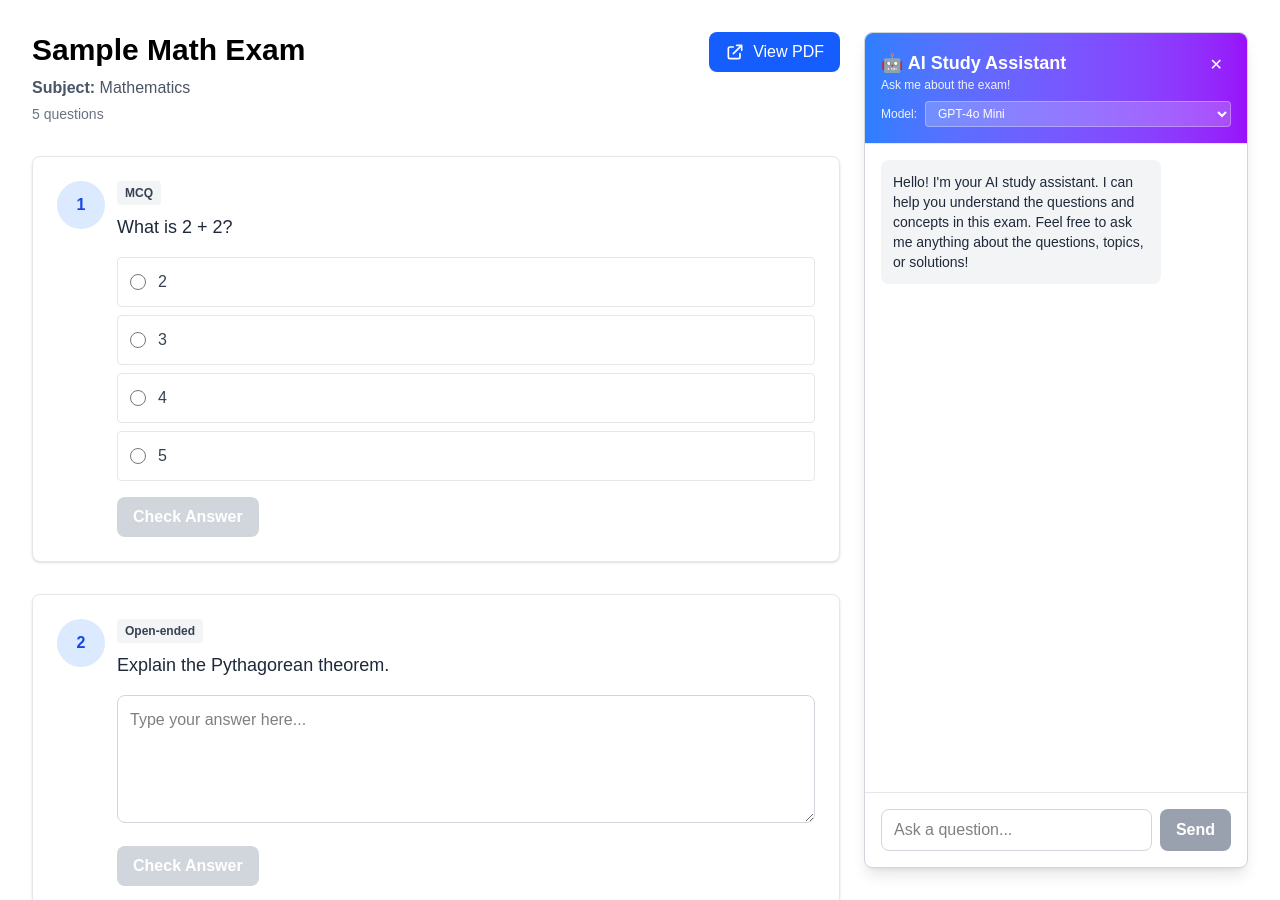
Test: ExamViewer › should display correct answer for open-ended questions
The image size is (1280, 900).
Expected: the text "Explain the Pythagorean theorem." is shown, [117, 655, 389, 675]
# Type an answer
Type "My answer about triangles" into the text box with test id "answer-input-2".
click(466, 759); type("My answer about triangles")  # box [117, 695, 815, 823]
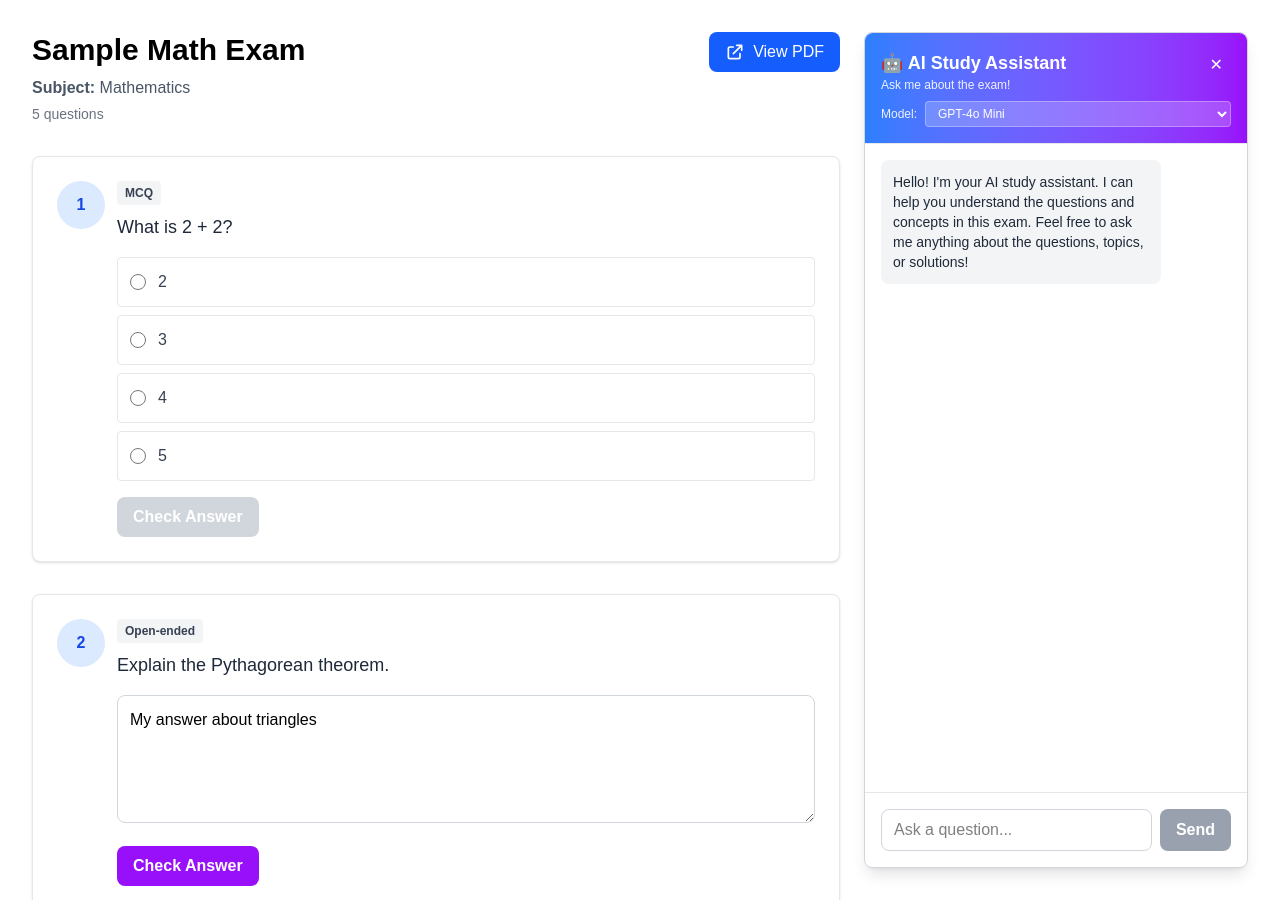
# Click Check Answer
Click the button with test id "check-answer-2".
click(188, 866)  # box [117, 846, 259, 886]
(page scrolled)
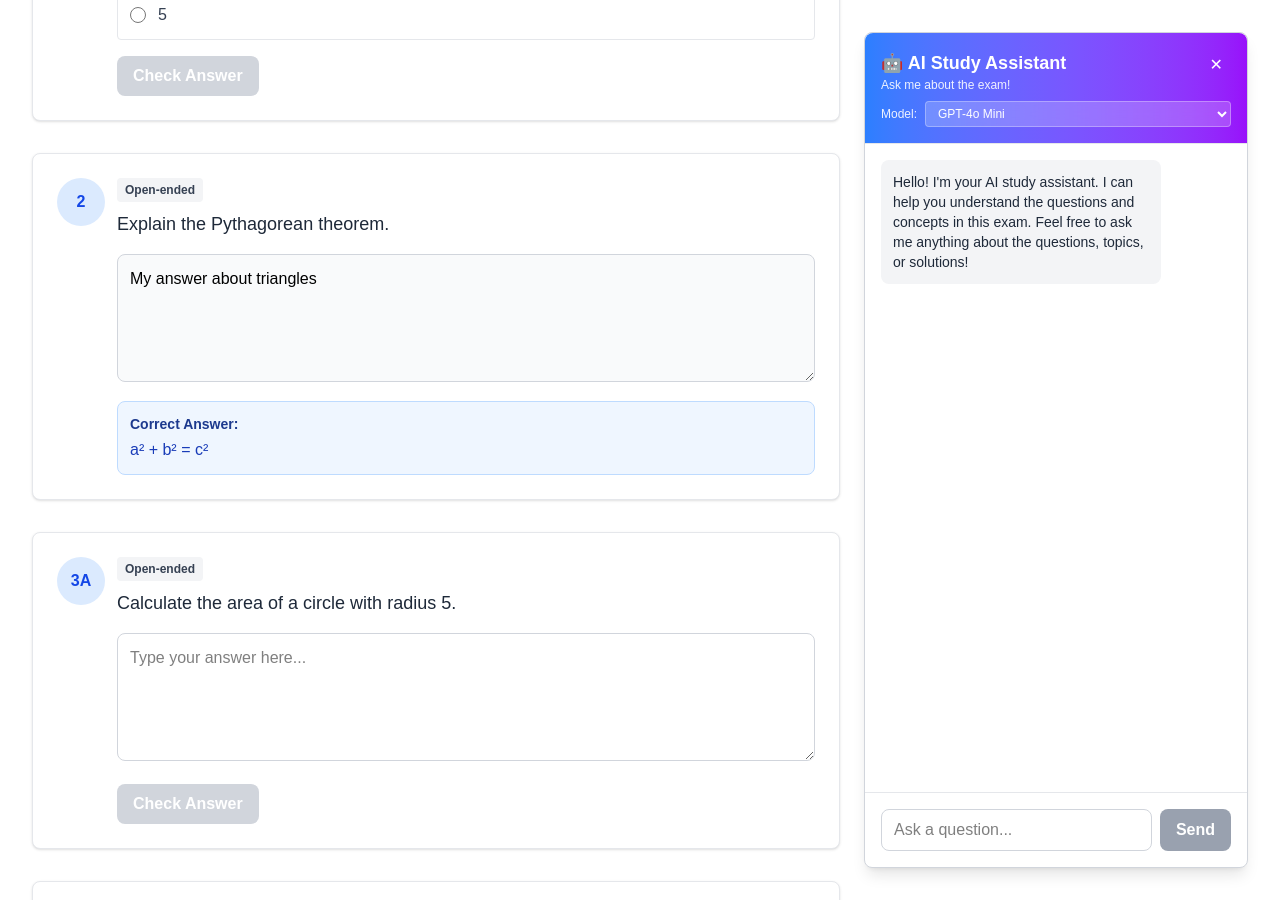
Expected: the text "Correct Answer:" is shown, [130, 414, 238, 434]
Expected: the text "a² + b² = c²" is shown, [130, 441, 208, 458]
